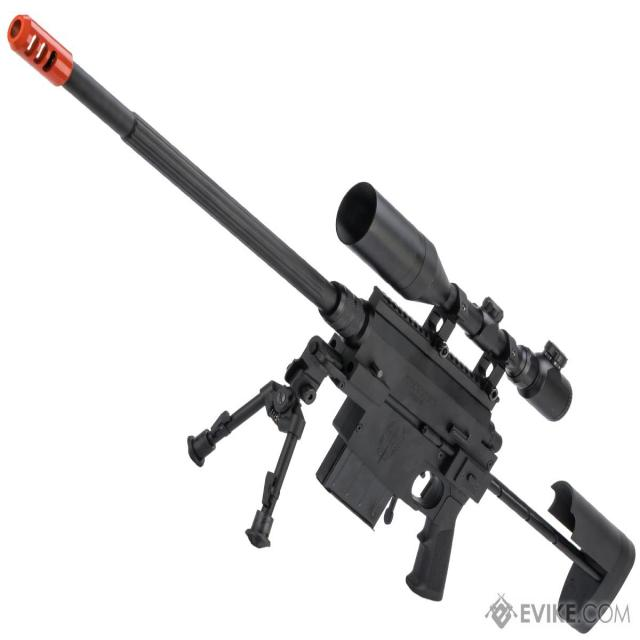Rifle: (6, 15, 638, 635)
